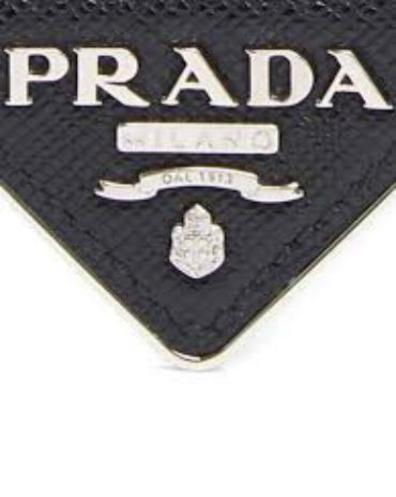PRADA: (1, 41, 394, 112)
